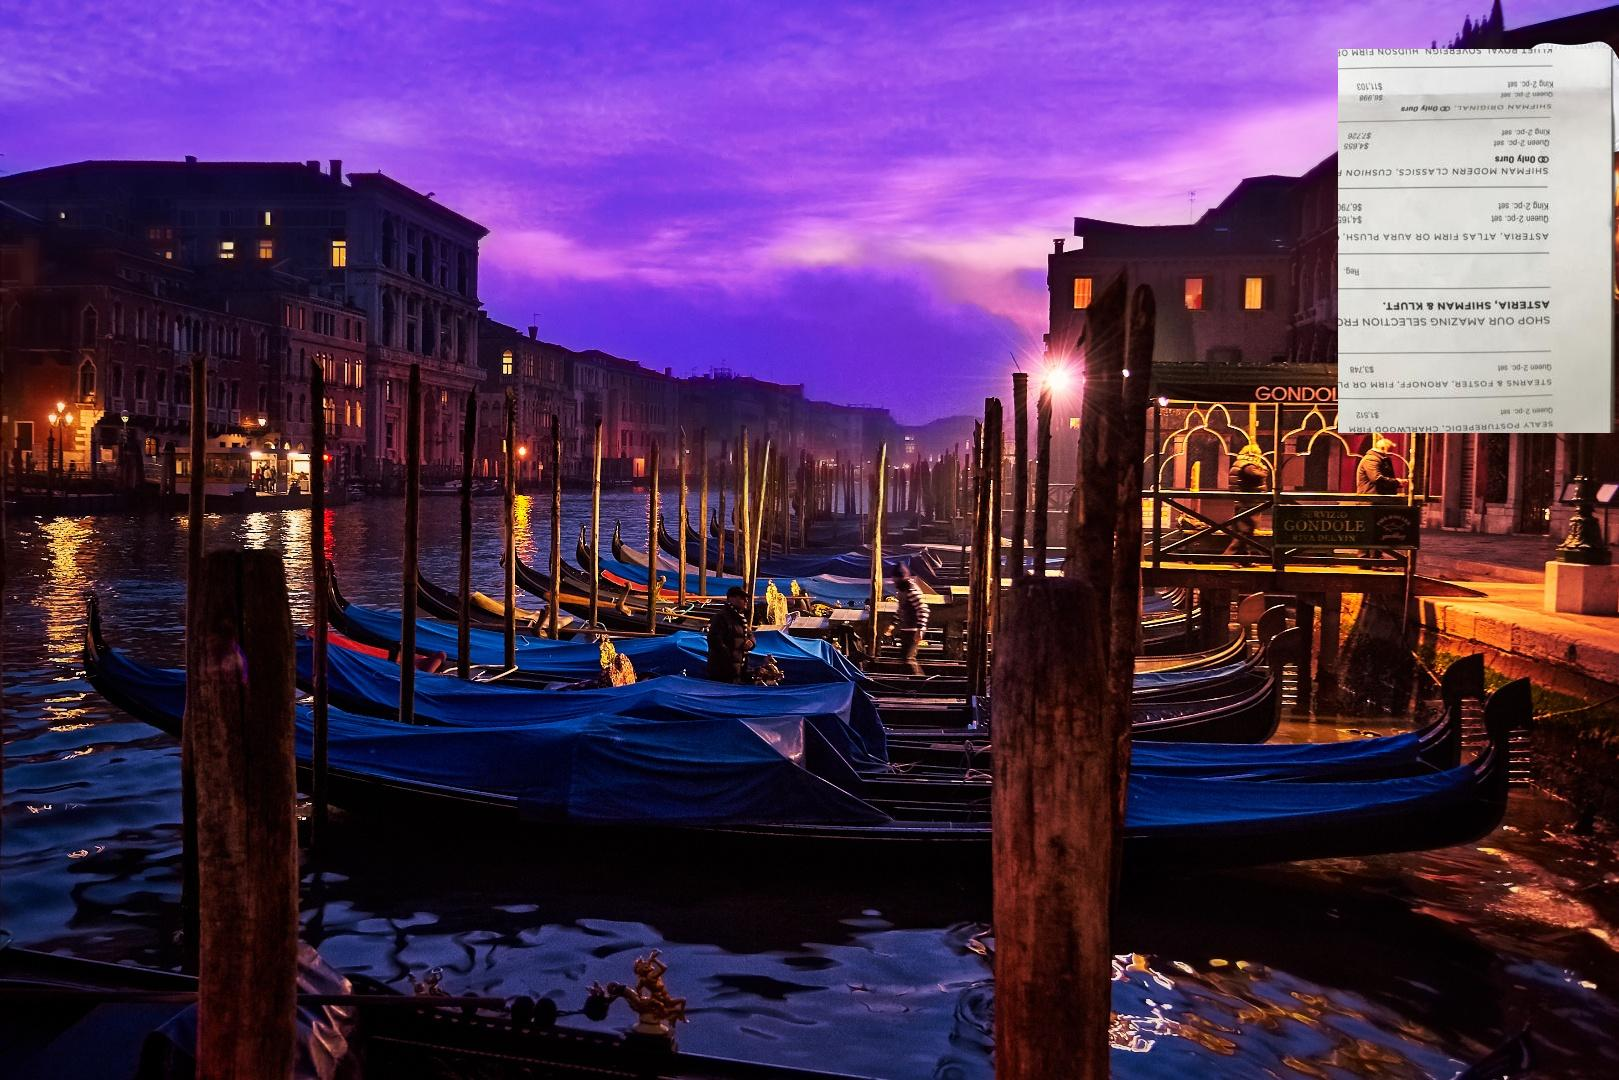paper: (1338, 49, 1619, 433)
plastic-bag: (1390, 98, 1606, 310)
trash: (1457, 39, 1619, 216)
